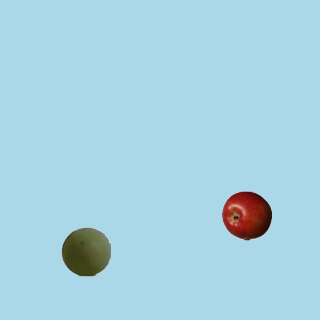Apple Braeburn: (221, 190, 271, 240)
Grape White 4: (60, 226, 110, 276)
